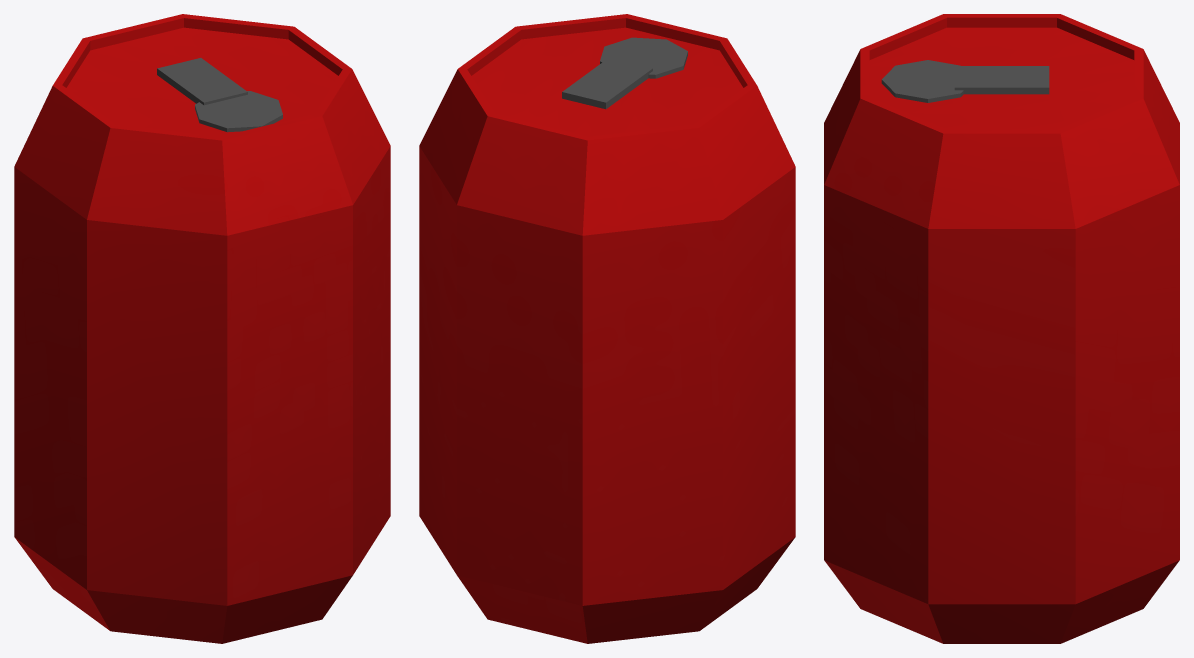
Rendered from Bottle_red_1.fbx.
The picture shows the model from 3 angles, left to right: view 1: azimuth 30°, elevation 25°; view 2: azimuth 150°, elevation 25°; view 3: azimuth 270°, elevation 25°; orthographic projection.
Parts seen in each view (by area): view 1: Bottle_red; view 2: Bottle_red; view 3: Bottle_red.
Part boxes in pixels (x1,y1,x2,y2): Bottle_red: [14, 14, 390, 643]; Bottle_red: [419, 14, 795, 643]; Bottle_red: [824, 14, 1179, 643].
Bounding box in the file's own units: 5.15 × 8.15 × 5.15.
